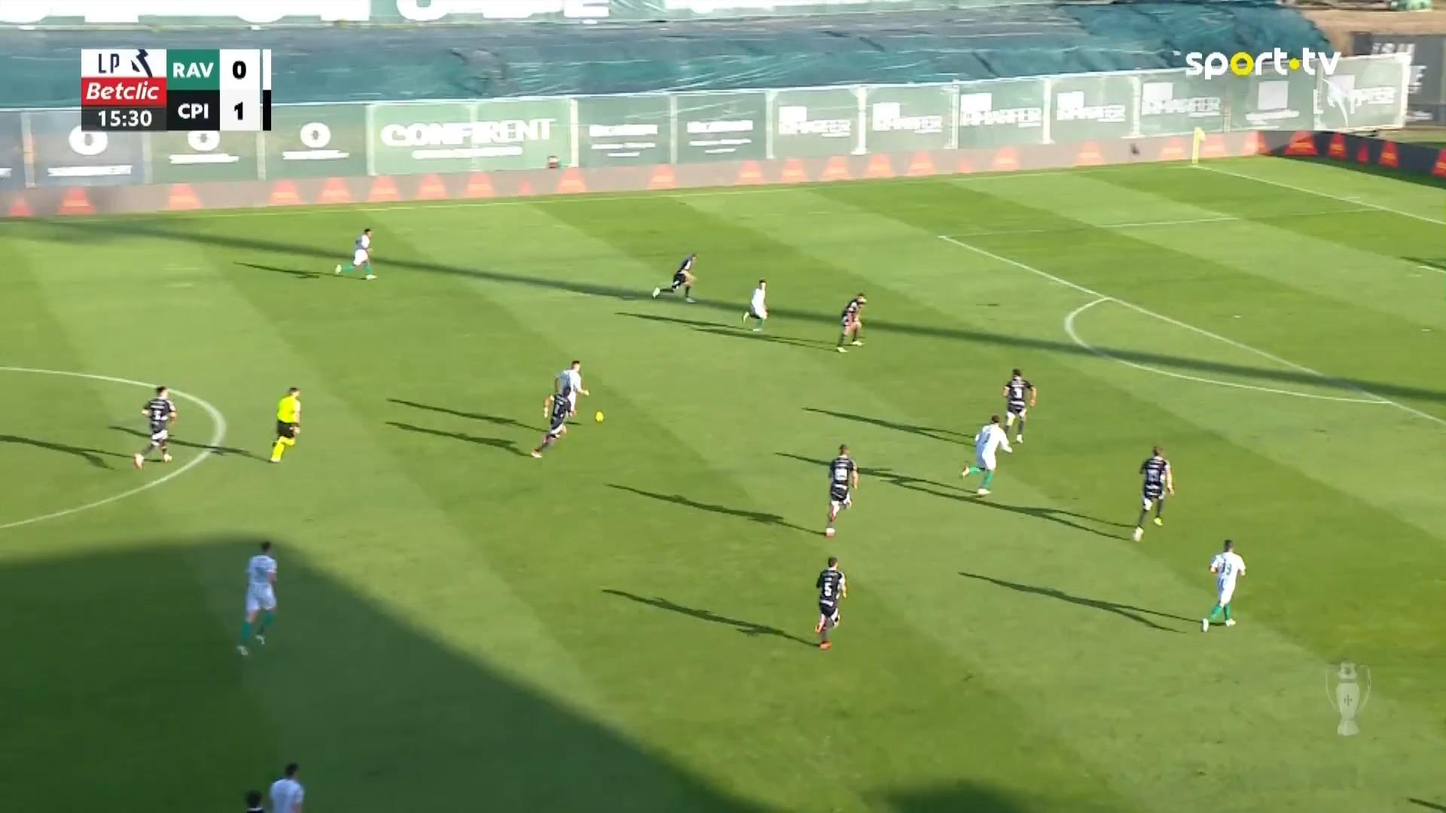ball: (594, 410, 603, 422)
player: (235, 539, 278, 656), (1199, 537, 1246, 632), (959, 414, 1012, 495), (1131, 445, 1174, 541), (133, 385, 177, 469), (529, 384, 575, 458), (824, 443, 859, 536), (813, 556, 847, 650), (551, 358, 591, 428), (1002, 367, 1036, 443), (651, 251, 698, 303), (334, 227, 377, 279), (834, 292, 867, 352), (268, 762, 305, 811), (741, 279, 768, 332)
referee: (268, 385, 302, 462)
